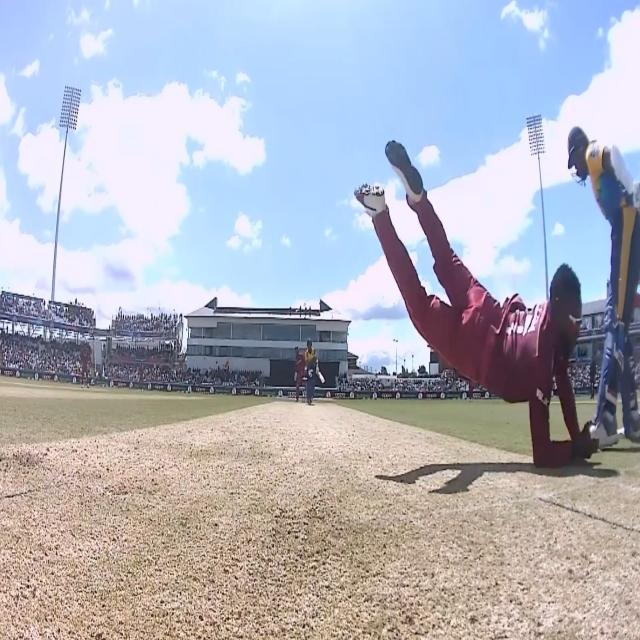ball: (585, 421, 597, 446)
